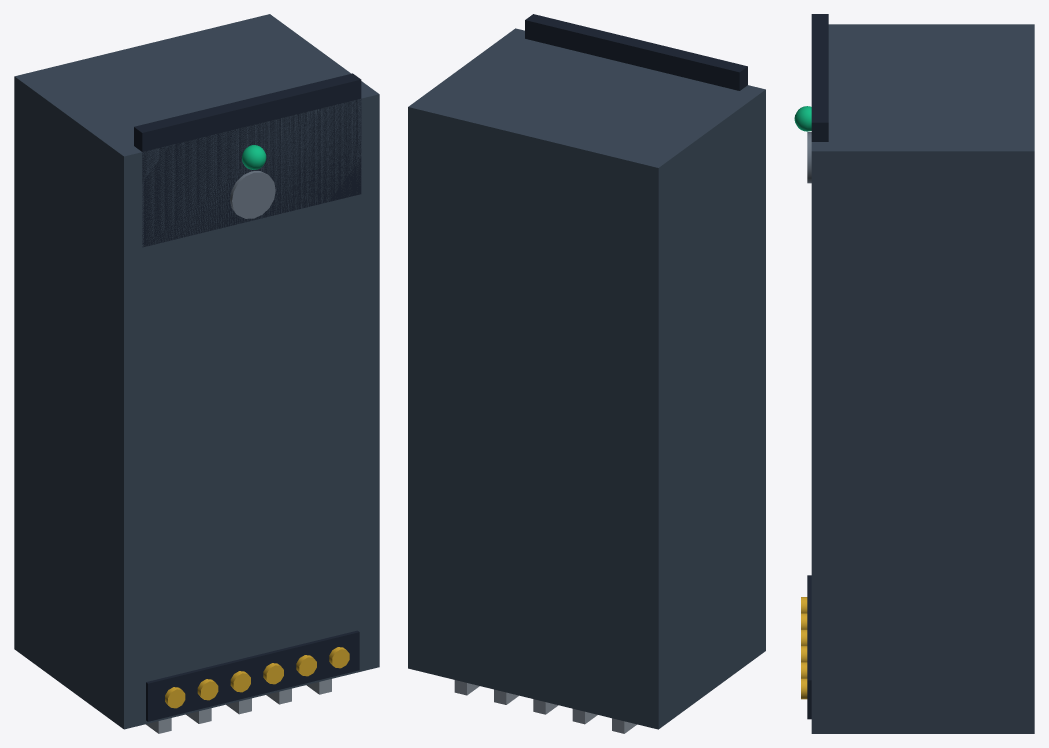
File: soft-starter.glb
3 renders of one model, left to right at view 1: azimuth 30°, elevation 25°; view 2: azimuth 150°, elevation 25°; view 3: azimuth 270°, elevation 25°, orthographic. The views are drawn at different scales.
Bounding box in the file's own units: 0.7 × 1.6 × 0.56.
